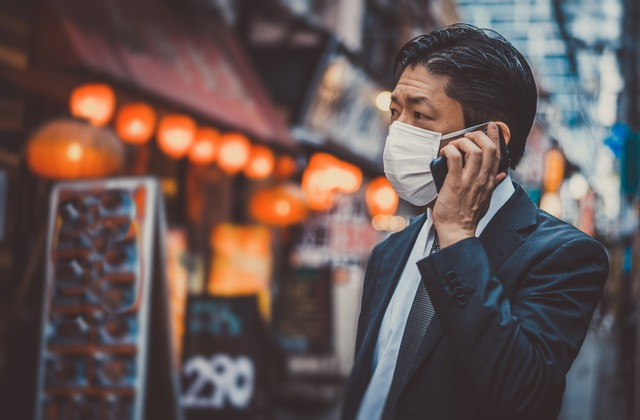mask: (370, 126, 441, 199)
